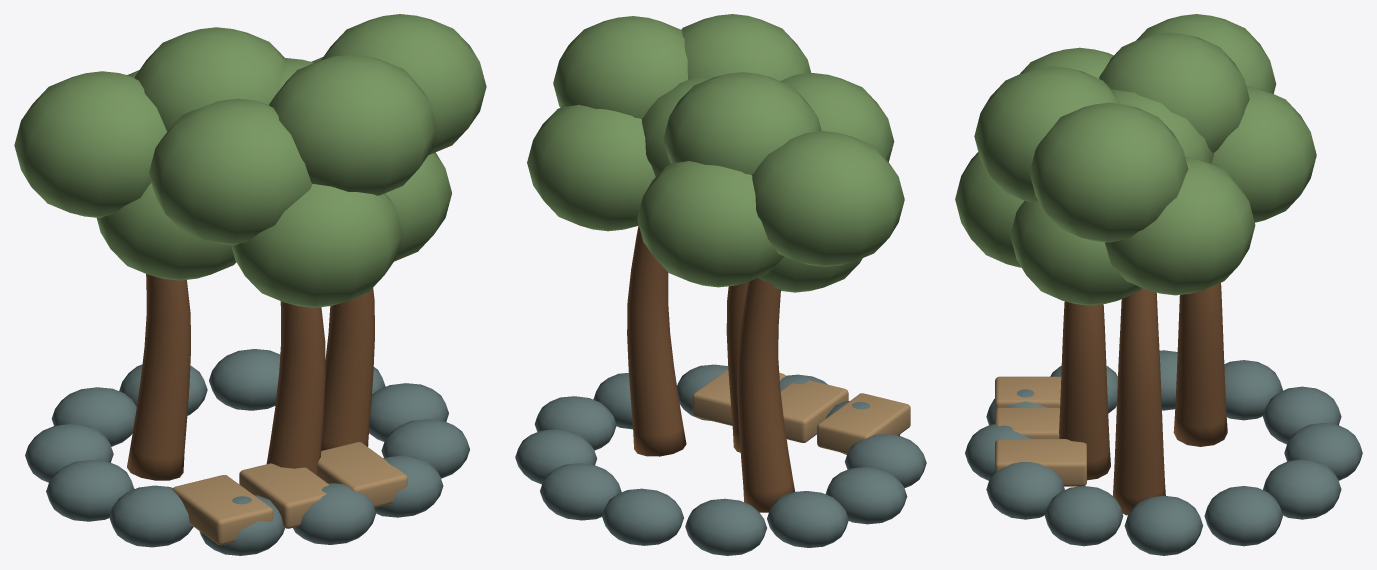
Rendered from deposit_wood.glb.
3 renders of one model, left to right at view 1: azimuth 30°, elevation 25°; view 2: azimuth 150°, elevation 25°; view 3: azimuth 270°, elevation 25°, orthographic. The views are drawn at different scales.
Parts seen in each view (by area): view 1: deposit_wood_part_0; view 2: deposit_wood_part_0; view 3: deposit_wood_part_0.
Part boxes in pixels (x1,y1,x2,y2): deposit_wood_part_0: [14, 14, 486, 555]; deposit_wood_part_0: [515, 14, 926, 555]; deposit_wood_part_0: [955, 14, 1362, 555].
Size of the model in its own units: 3.6 by 3.8 by 3.32.
